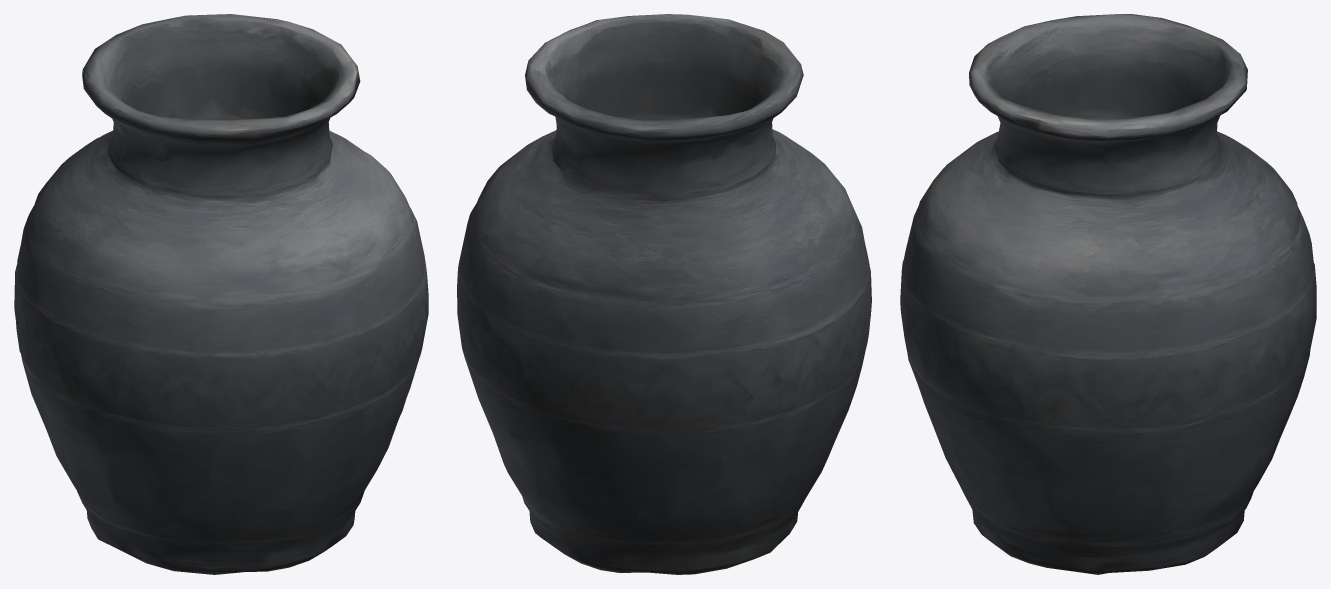
The model's file is vase_ceramic_round.glb.
The picture shows the model from 3 angles, left to right: view 1: azimuth 30°, elevation 25°; view 2: azimuth 150°, elevation 25°; view 3: azimuth 270°, elevation 25°; orthographic projection.
Parts seen in each view (by area): view 1: tripo_node_3b3cf144-fb87-4b91-a5ae-6a65ea3d5a45; view 2: tripo_node_3b3cf144-fb87-4b91-a5ae-6a65ea3d5a45; view 3: tripo_node_3b3cf144-fb87-4b91-a5ae-6a65ea3d5a45.
Part boxes in pixels (box(x1,y1,x2,y2)): tripo_node_3b3cf144-fb87-4b91-a5ae-6a65ea3d5a45: box(14, 14, 428, 574); tripo_node_3b3cf144-fb87-4b91-a5ae-6a65ea3d5a45: box(457, 14, 871, 574); tripo_node_3b3cf144-fb87-4b91-a5ae-6a65ea3d5a45: box(900, 14, 1316, 574).
Bounding box in the file's own units: 0.8312 × 1 × 0.8329.
1 material, 1 textured.
